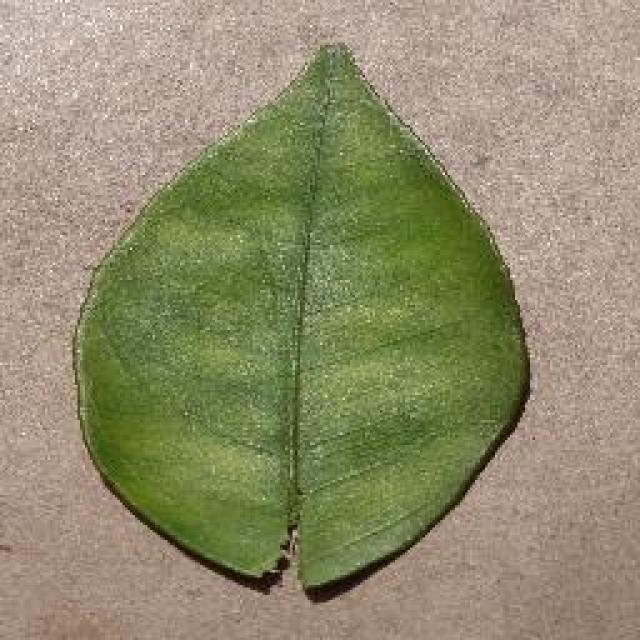Orange_Haunglongbing_Citrus_greening: (124, 138, 482, 544)
